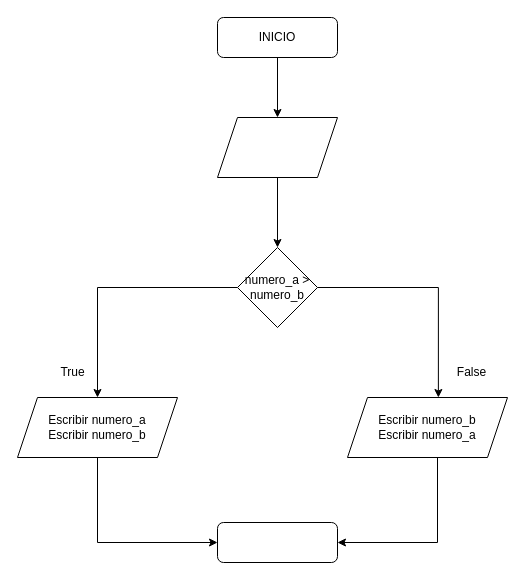
The diagram is 525 pixels wide and 580 high, and some of its shapes have lost their labels. The centre of each missing label's shape, as x and y in pixels:
"FIN" belongs at point 277,542.
"Leer numero_a Leer numero_b" belongs at point 277,147.
